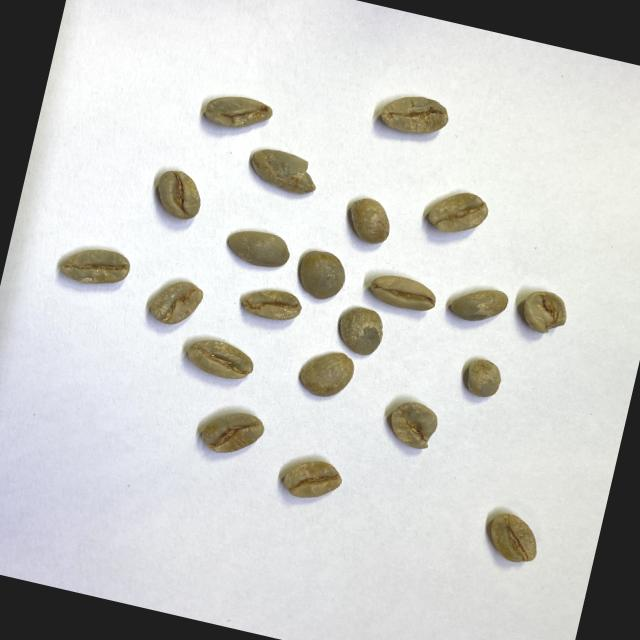bad: (244, 143, 324, 200), (201, 87, 275, 139), (145, 272, 206, 332), (384, 396, 442, 452), (516, 286, 574, 340)
good: (374, 86, 453, 145), (419, 182, 492, 242), (56, 238, 133, 294), (200, 404, 268, 462), (182, 333, 257, 385), (482, 507, 544, 568), (221, 223, 292, 274), (296, 343, 356, 403), (444, 278, 510, 330), (278, 452, 344, 504), (150, 164, 208, 223), (290, 246, 348, 304), (366, 270, 438, 316), (332, 303, 388, 360), (342, 192, 398, 248), (238, 282, 304, 327), (460, 354, 504, 402)
